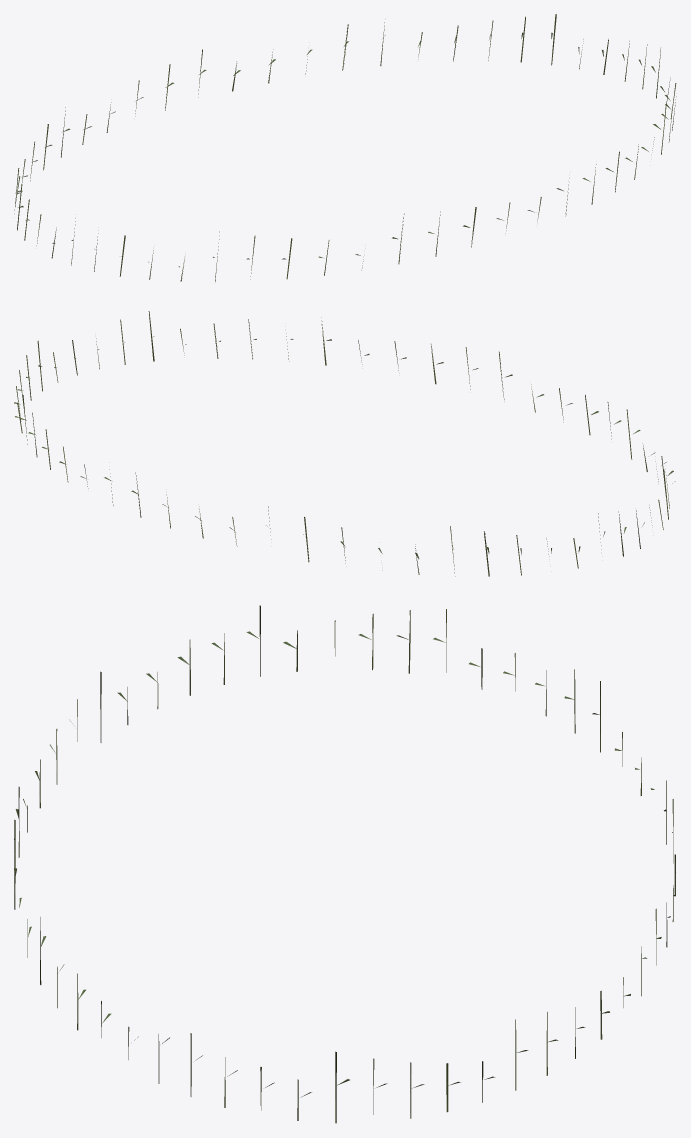
File: luxuean.glb
3 views of the same model, one above another, from view 1: azimuth 30°, elevation 25°; view 2: azimuth 150°, elevation 25°; view 3: azimuth 270°, elevation 25° (orthographic). The views are drawn at different scales.
Visible parts, largest first — view 1: Mobile_luxuean_plants; view 2: Mobile_luxuean_plants; view 3: Mobile_luxuean_plants.
Part boxes in pixels (x1=…): Mobile_luxuean_plants: x1=14, y1=14, x2=676, y2=282; Mobile_luxuean_plants: x1=14, y1=311, x2=675, y2=576; Mobile_luxuean_plants: x1=14, y1=605, x2=675, y2=1123.
Bounding box in the file's own units: 26.2 × 2.01 × 16.05.
